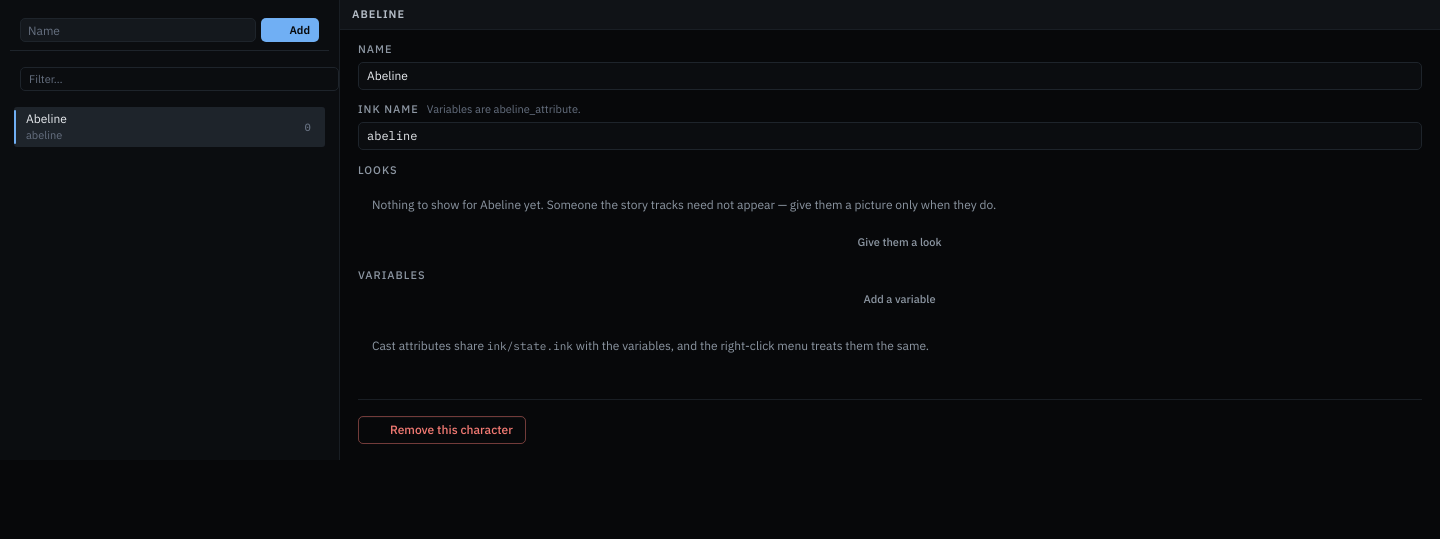
it: CastPanel › adds a number, and shows only the fields a number has
The width and height of the screenshot is (1440, 539).
Click the button "Add a variable" at (890, 300), box [358,288,1422,312]
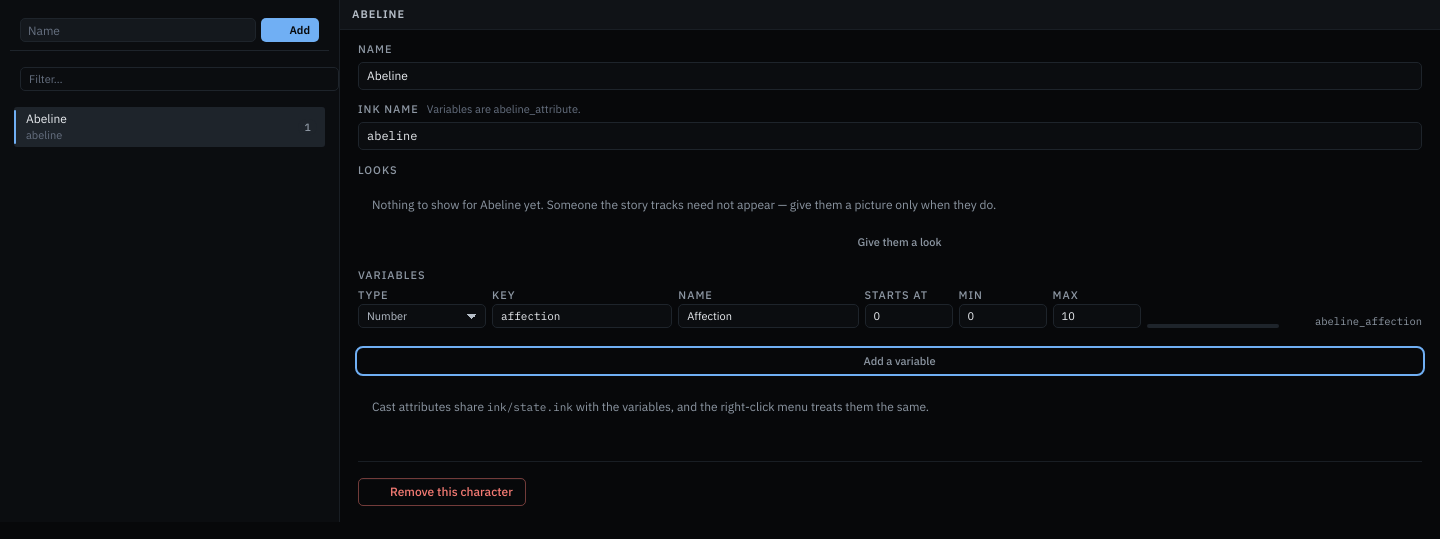
Now the dropdown named "Type of Affection" shows "Number", box [358,304,486,328]
Now the number field named "min of affection" holds "0", box [959,304,1047,328]
Now the number field named "max of affection" holds "10", box [1053,304,1141,328]
